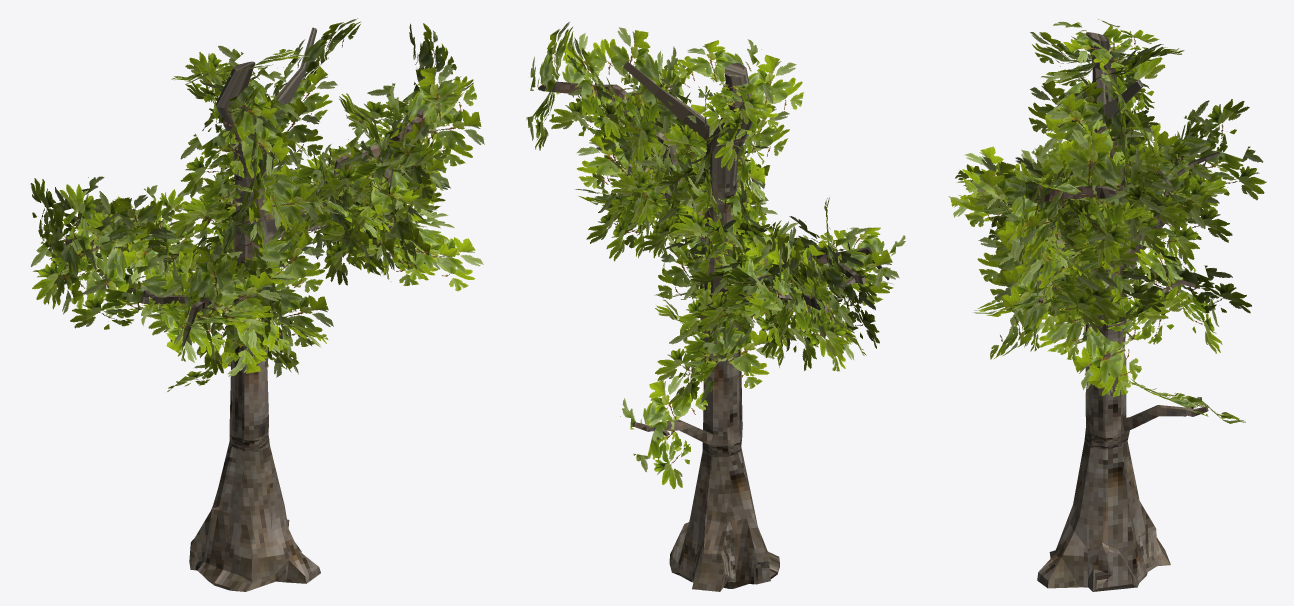
Rendered from tree_2.fbx.
3 views of the same model, side by side, from view 1: azimuth 30°, elevation 25°; view 2: azimuth 150°, elevation 25°; view 3: azimuth 270°, elevation 25° (orthographic). The views are drawn at different scales.
Parts seen in each view (by area): view 1: Tree, Tree|leaves|Dupli|83, Tree|leaves|Dupli|26, Tree|leaves|Dupli|84, Tree|leaves|Dupli|22, Tree|leaves|Dupli|59, Tree|leaves|Dupli|56, Tree|leaves|Dupli|27, Tree|leaves|Dupli|78, Tree|leaves|Dupli|99, Tree|leaves|Dupli|16, Tree|leaves|Dupli|25 (+45 smaller); view 2: Tree, Tree|leaves|Dupli|96, Tree|leaves|Dupli|32, Tree|leaves|Dupli|18, Tree|leaves|Dupli|97, Tree|leaves|Dupli|57, Tree|leaves|Dupli|98, Tree|leaves|Dupli|33, Tree|leaves|Dupli|55, Tree|leaves|Dupli|87, Tree|leaves|Dupli|93, Tree|leaves|Dupli|89 (+34 smaller); view 3: Tree, Tree|leaves|Dupli|55, Tree|leaves|Dupli|31, Tree|leaves|Dupli|94, Tree|leaves|Dupli|32, Tree|leaves|Dupli|69, Tree|leaves|Dupli|33, Tree|leaves|Dupli|73, Tree|leaves|Dupli|65, Tree|leaves|Dupli|97, Tree|leaves|Dupli|40, Tree|leaves|Dupli|74 (+42 smaller).
Boxes of the visible parts, bbox=[...] form: Tree: bbox=[65, 27, 425, 591]; Tree|leaves|Dupli|83: bbox=[59, 184, 147, 318]; Tree|leaves|Dupli|26: bbox=[170, 244, 249, 374]; Tree|leaves|Dupli|84: bbox=[30, 178, 95, 314]; Tree|leaves|Dupli|22: bbox=[148, 251, 281, 335]; Tree|leaves|Dupli|59: bbox=[384, 64, 476, 200]; Tree|leaves|Dupli|56: bbox=[347, 80, 484, 166]; Tree|leaves|Dupli|27: bbox=[70, 255, 193, 329]; Tree|leaves|Dupli|78: bbox=[193, 60, 300, 178]; Tree|leaves|Dupli|99: bbox=[185, 45, 286, 143]; Tree|leaves|Dupli|16: bbox=[206, 215, 325, 316]; Tree|leaves|Dupli|25: bbox=[139, 251, 224, 362]; Tree: bbox=[538, 61, 889, 591]; Tree|leaves|Dupli|96: bbox=[593, 27, 677, 162]; Tree|leaves|Dupli|32: bbox=[655, 310, 777, 388]; Tree|leaves|Dupli|18: bbox=[620, 375, 707, 488]; Tree|leaves|Dupli|97: bbox=[673, 39, 773, 124]; Tree|leaves|Dupli|57: bbox=[540, 33, 627, 138]; Tree|leaves|Dupli|98: bbox=[708, 54, 803, 170]; Tree|leaves|Dupli|33: bbox=[668, 291, 752, 409]; Tree|leaves|Dupli|55: bbox=[526, 22, 573, 150]; Tree|leaves|Dupli|87: bbox=[744, 260, 853, 356]; Tree|leaves|Dupli|93: bbox=[752, 242, 839, 359]; Tree|leaves|Dupli|89: bbox=[699, 241, 777, 331]; Tree: bbox=[1003, 32, 1219, 591]; Tree|leaves|Dupli|55: bbox=[1049, 129, 1145, 264]; Tree|leaves|Dupli|31: bbox=[1072, 281, 1191, 397]; Tree|leaves|Dupli|94: bbox=[1152, 116, 1266, 200]; Tree|leaves|Dupli|32: bbox=[1129, 246, 1251, 315]; Tree|leaves|Dupli|69: bbox=[963, 157, 1087, 249]; Tree|leaves|Dupli|33: bbox=[1135, 237, 1222, 353]; Tree|leaves|Dupli|73: bbox=[1045, 78, 1153, 173]; Tree|leaves|Dupli|65: bbox=[989, 242, 1104, 332]; Tree|leaves|Dupli|97: bbox=[1053, 19, 1159, 67]; Tree|leaves|Dupli|40: bbox=[997, 231, 1137, 316]; Tree|leaves|Dupli|74: bbox=[1052, 56, 1165, 170].
Bounding box in the file's own units: 2833 × 3614 × 2004.
